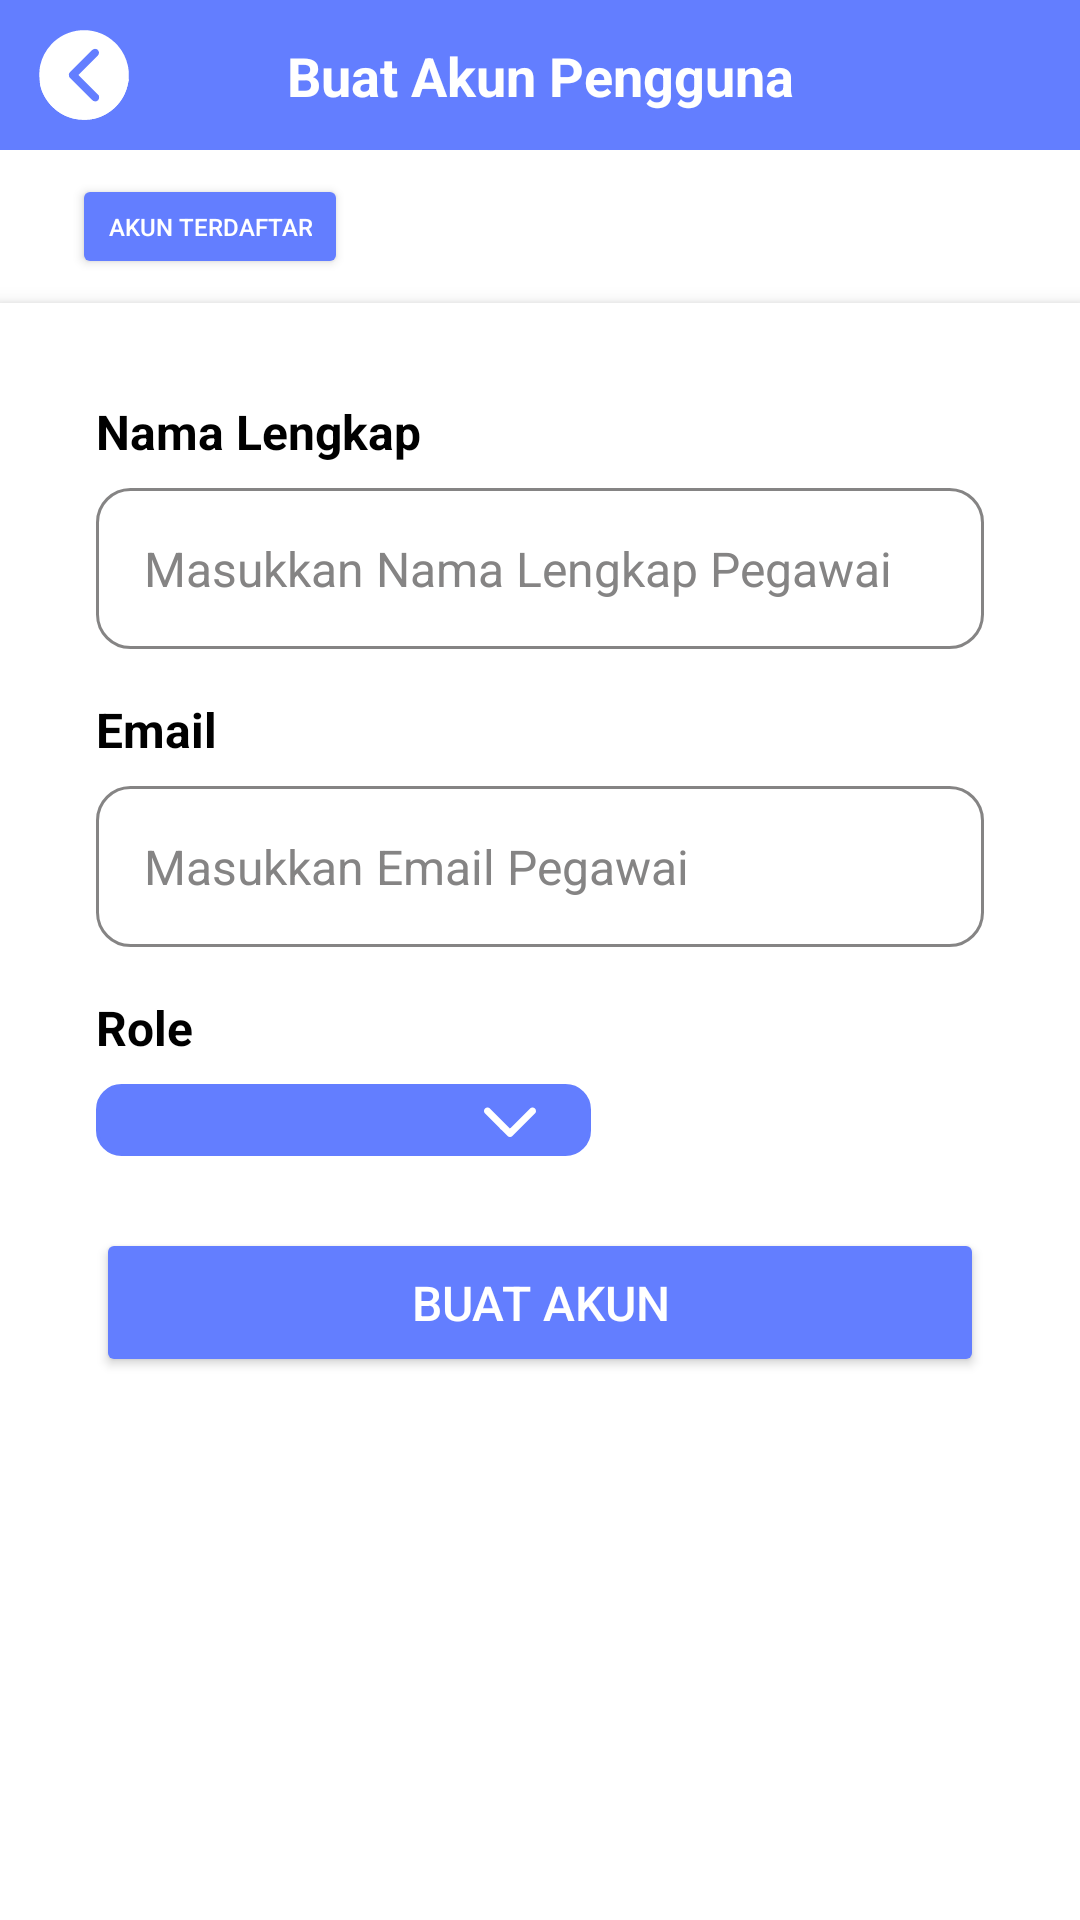

Icon bounding boxes for this 1080*1920 phone screenshot, format bbox(x1, y1, x2, y2):
Kembali: bbox(39, 30, 129, 120)
